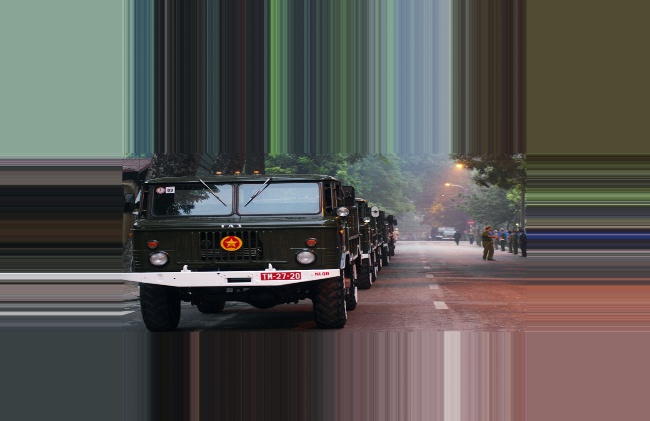plate: (258, 270, 301, 282)
